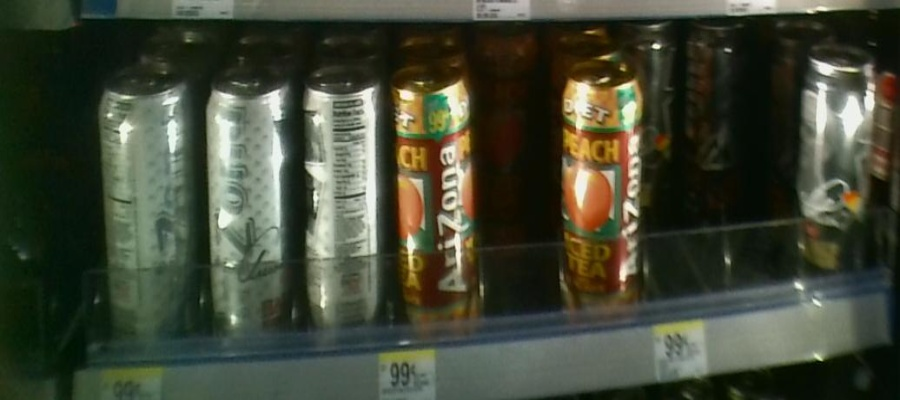bottle: (96, 45, 204, 366), (386, 45, 474, 355), (206, 51, 294, 358), (297, 55, 381, 359), (561, 42, 643, 347), (794, 42, 877, 293)
